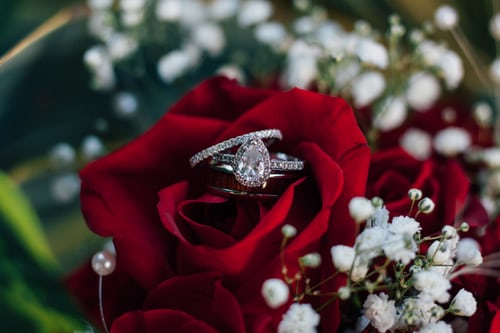ring: (185, 110, 312, 200)
